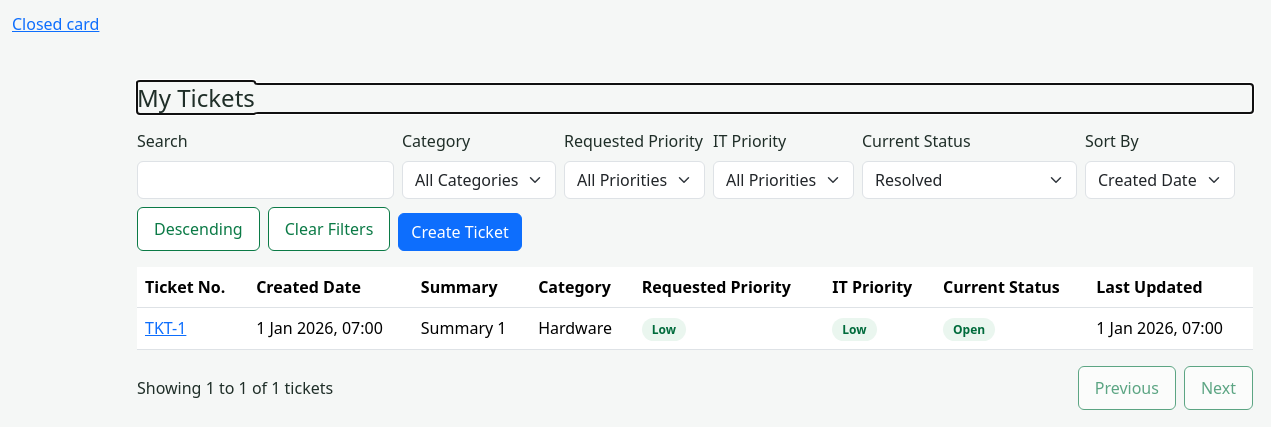
Scenario: Dashboard drill-down filters › follows a URL change while already on the list, and moves focus to the heading (review on PR #53)
The width and height of the screenshot is (1271, 427).
Expected: the link "TKT-1" is shown, [145, 317, 186, 339]
Click the link "Closed card": click(56, 24) [12, 13, 99, 35]
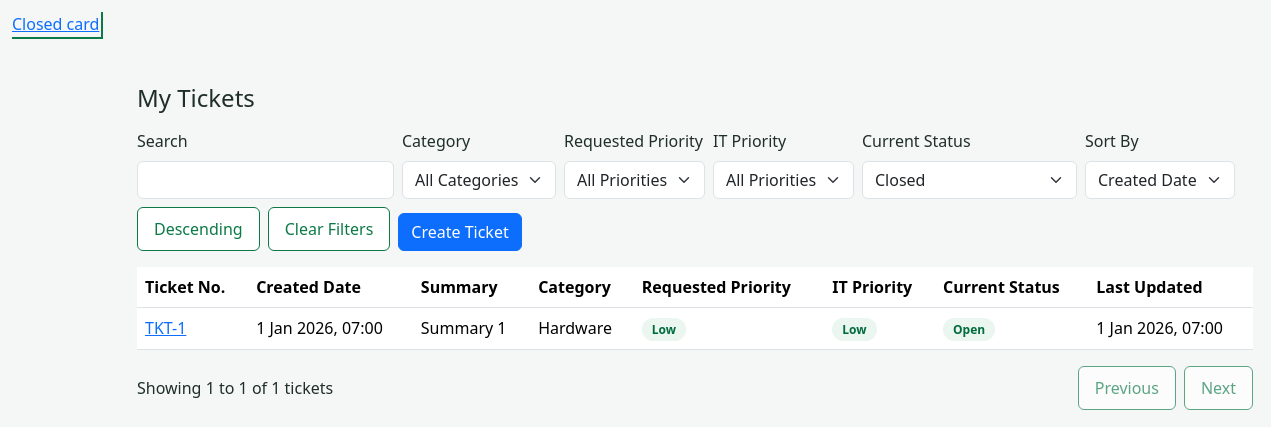
Result: the dropdown labelled "Current Status" shows "Closed" at [862, 161, 1077, 199]
